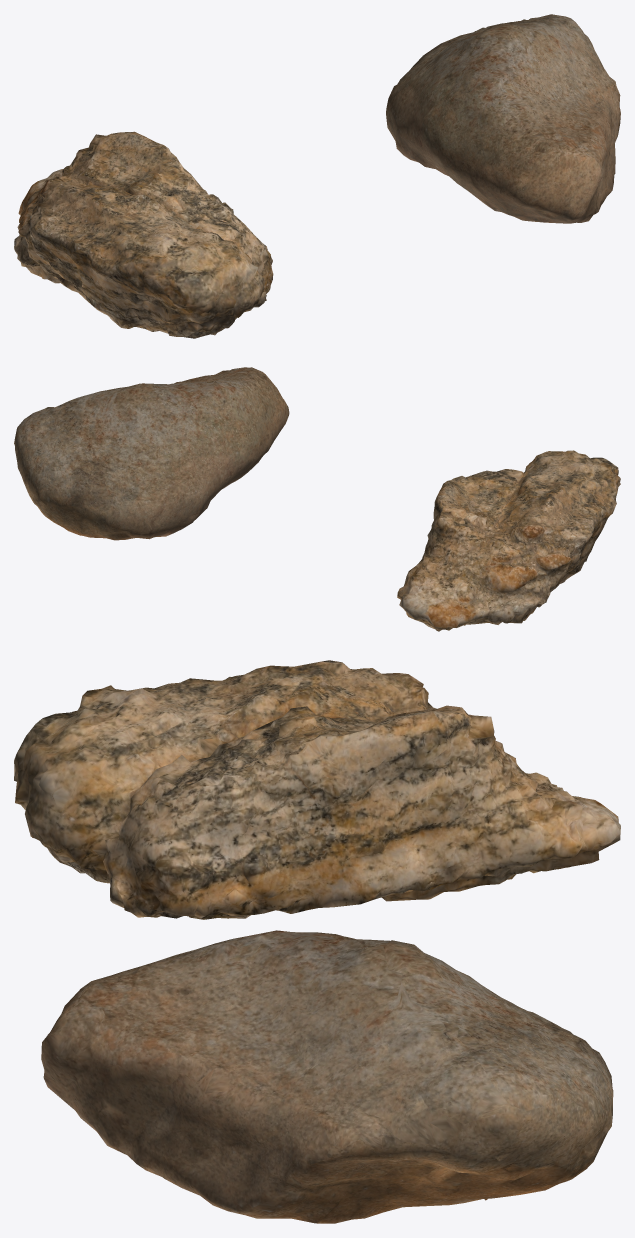
Rendered from bg_boulders_cluster.glb.
The picture shows the model from 3 angles, top to bottom: view 1: azimuth 30°, elevation 25°; view 2: azimuth 150°, elevation 25°; view 3: azimuth 270°, elevation 25°; orthographic projection. The views are drawn at different scales.
Parts seen in each view (by area): view 1: bg_boulders_cluster; view 2: bg_boulders_cluster; view 3: bg_boulders_cluster.
Boxes of the visible parts, x1,y1,x2,y2 form: bg_boulders_cluster: [14, 14, 620, 338]; bg_boulders_cluster: [14, 367, 620, 631]; bg_boulders_cluster: [14, 660, 620, 1223].
Bounding box in the file's own units: 4 × 0.9506 × 2.21.
Materials: 1 (1 with a texture image).
